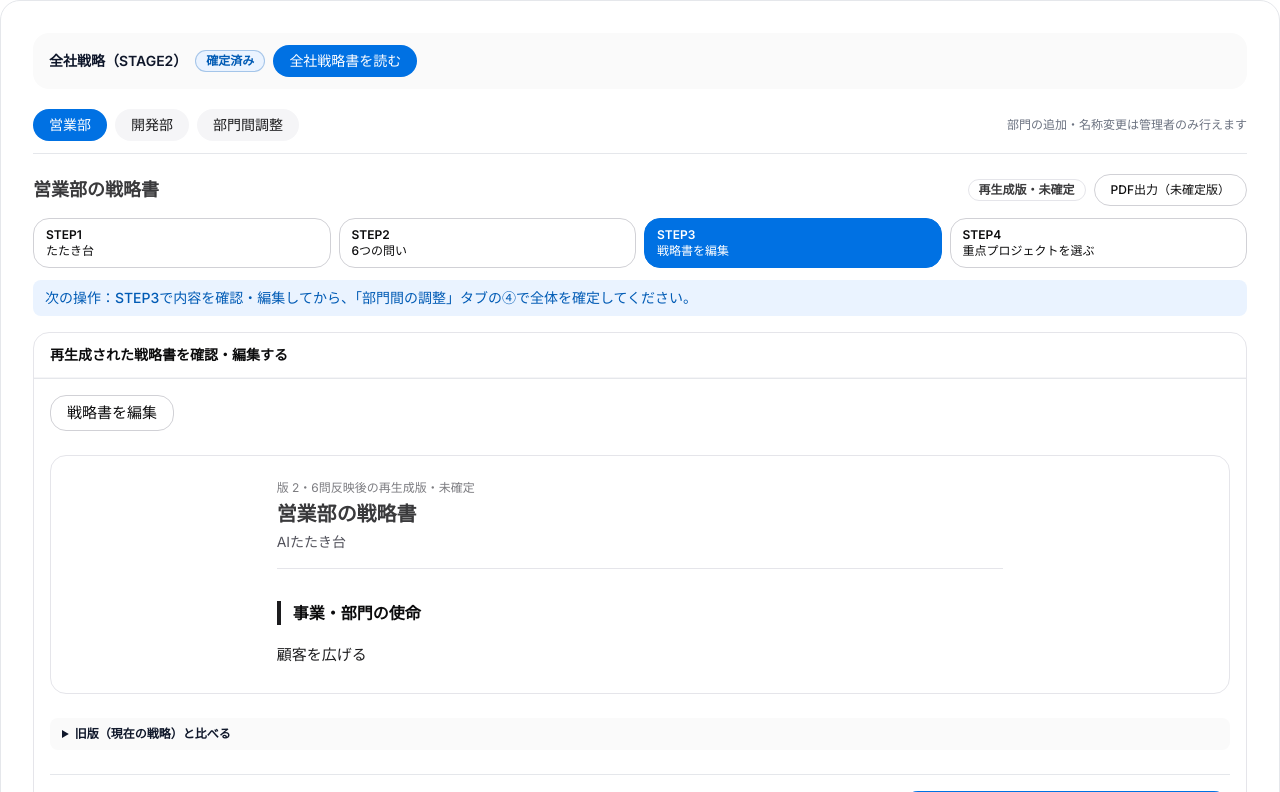
it: 確定条件（課題10） › 2部門以上で部門間調整が未分析なら、確定ボタンを押せず理由を出す
Click the button "部門間調整".
click(248, 125)  # box [197,109,299,141]
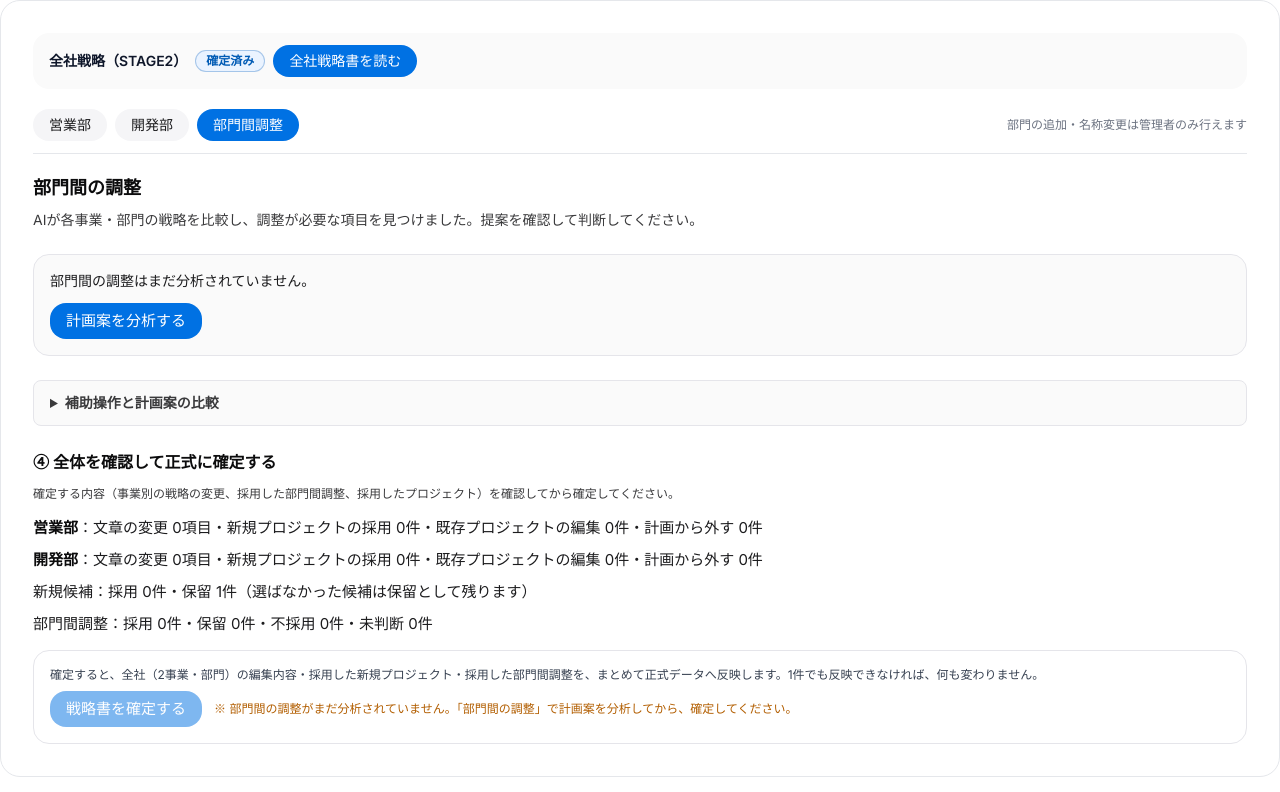
Check: the button "戦略書を確定する" is disabled, box [50,691,202,727]
Check: the text "※ 部門間の調整がまだ分析されていません。「部門間の調整」で計画案を分析してから、確定してください。" is shown, box [214,701,798,717]
